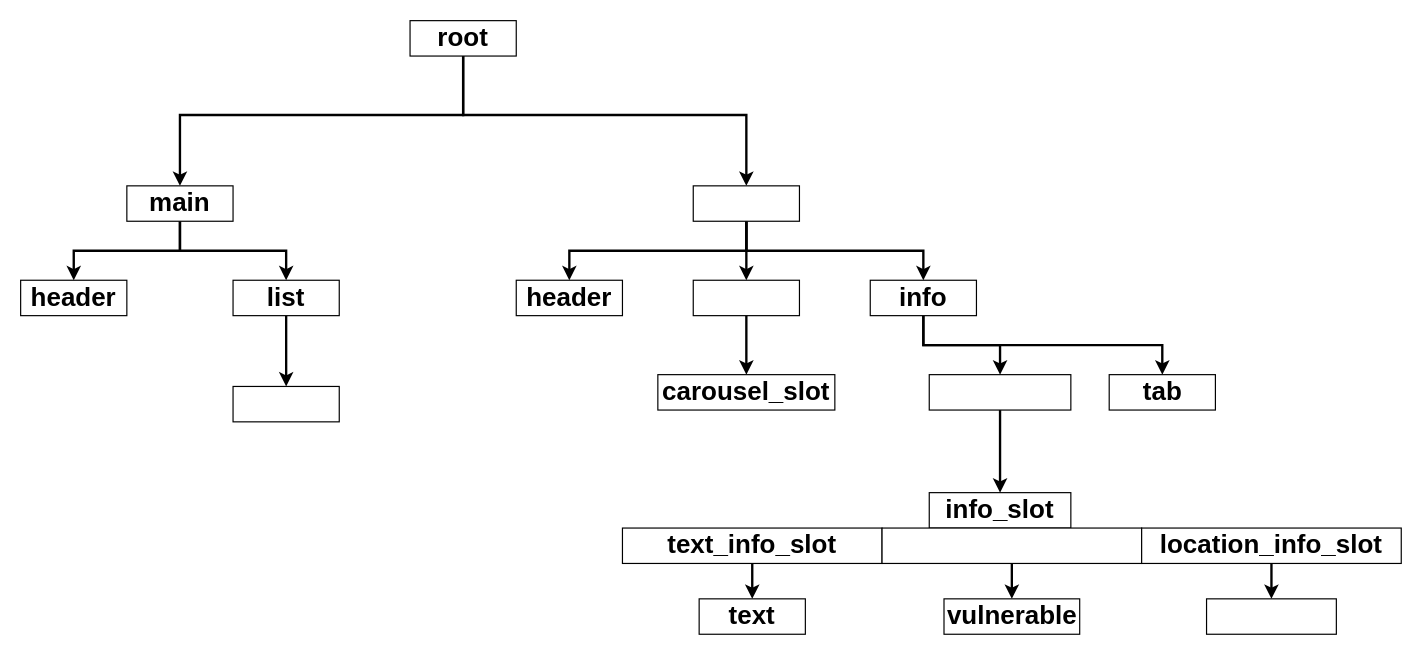
Image size: 1422x655. Some labels were removed from this diagram. Here are the shapes that lost their labels. From the top down, the centre of each, then its label:
(x=745, y=203): details
(x=745, y=297): carousel
(x=285, y=403): card
(x=999, y=391): info_slots
(x=1011, y=545): vulnerable_info_slot
(x=1270, y=616): location
